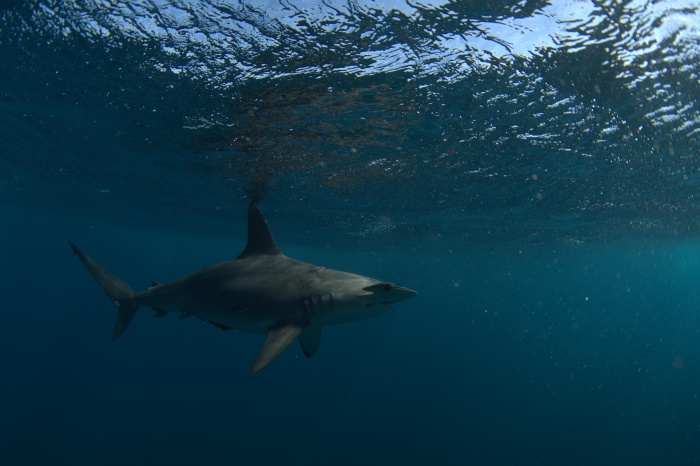Hammer: (51, 179, 414, 374)
